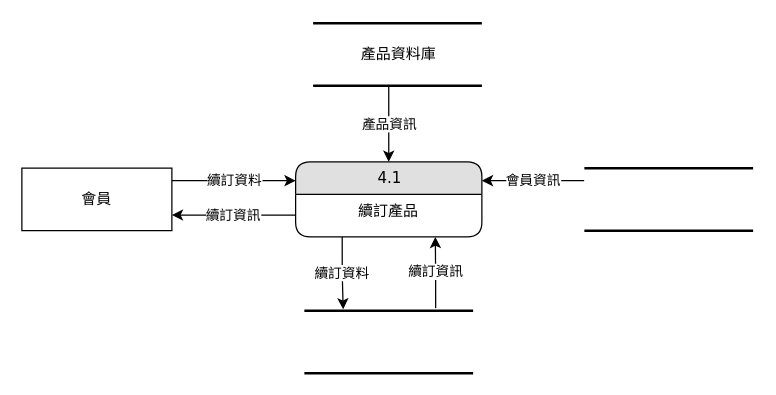
The diagram is 776 pixels wide and 395 high, and some of its shapes have lost their labels. The centre of each missing label's shape, as x and y in pixels:
"會員資料庫" belongs at (x=668, y=198).
"續訂資料表" belongs at (x=388, y=341).
